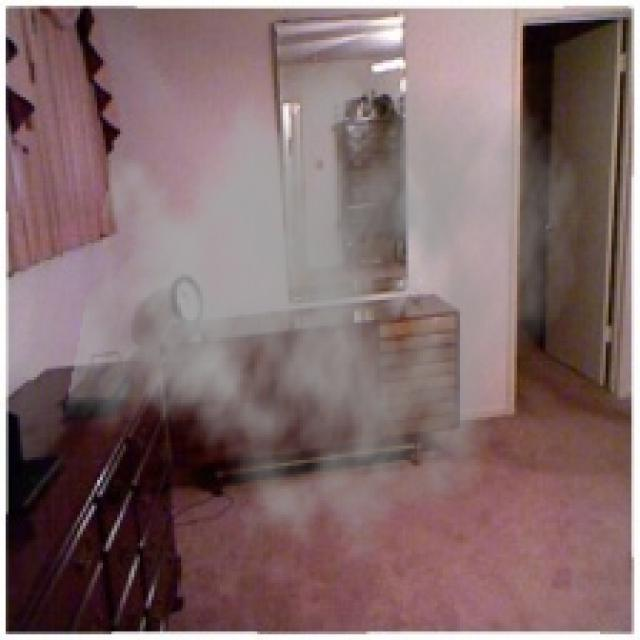Smoke: (63, 9, 586, 568)
